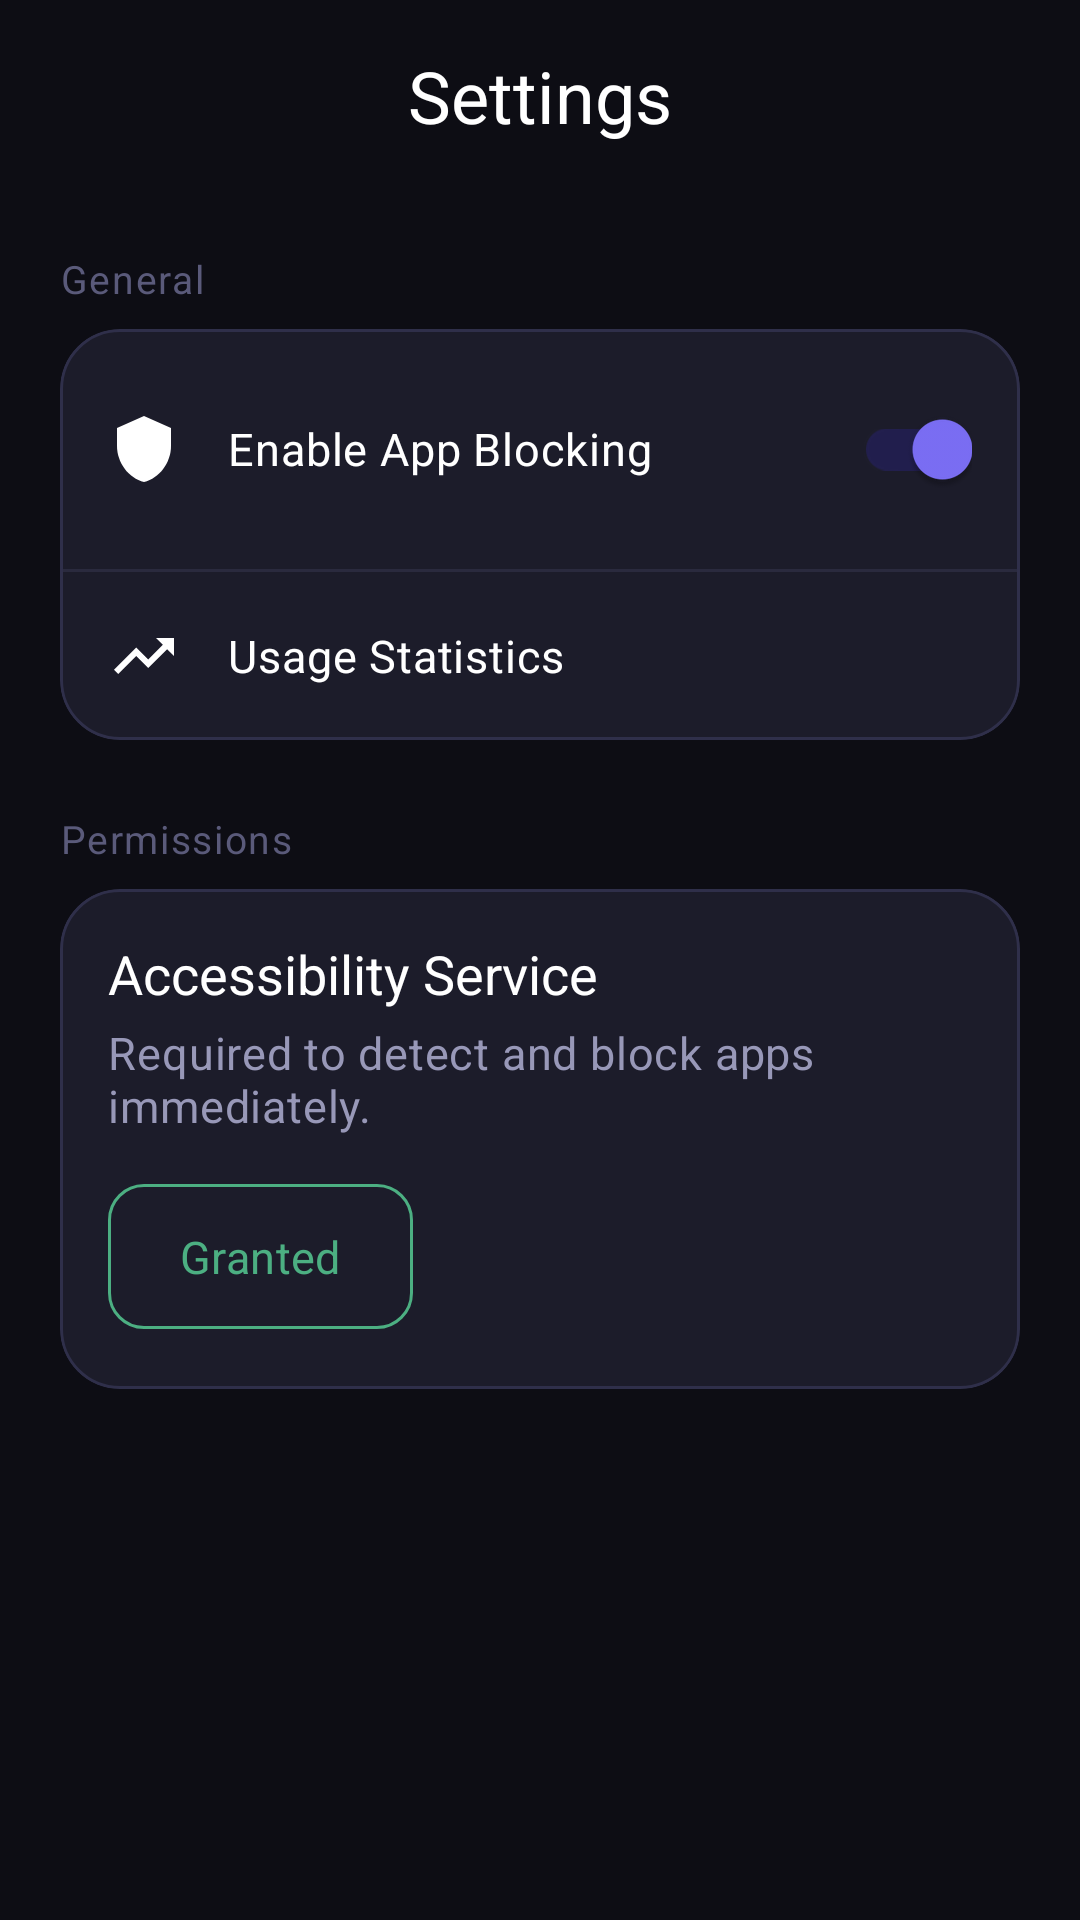

Where icons sit on this 1080x1920 app screen, as BBox(x1, y1, x2, y2):
shield: BBox(117, 416, 171, 482)
trending up: BBox(114, 638, 174, 674)
